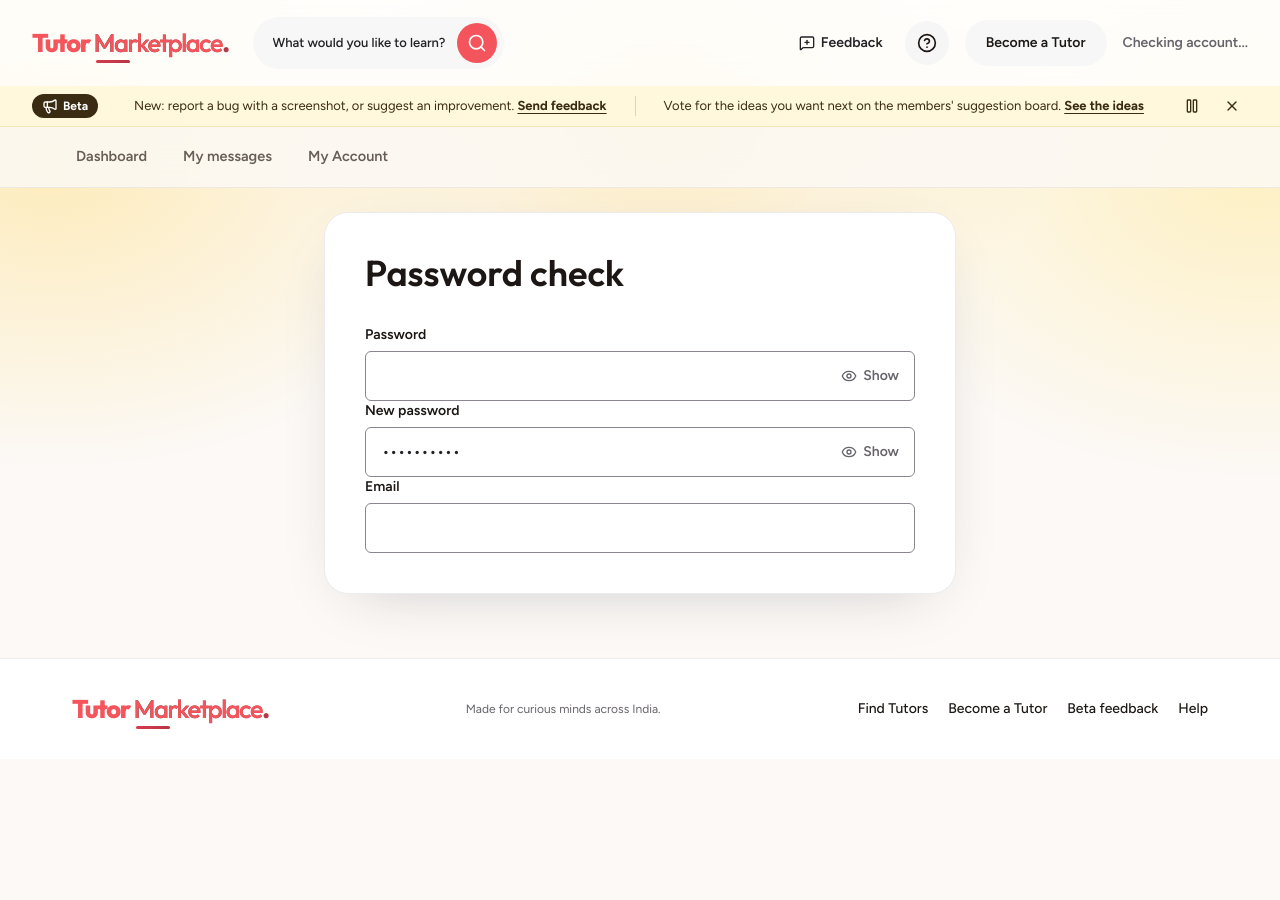
Test: masks passwords by default and toggles each field without losing typed input or submitting
This screenshot has width=1280, height=900.
Expected: the button with aria-label "Show password" is enabled, [829, 355, 911, 397]
In the password field labelled "Password": (640, 376) [365, 351, 915, 401], type "Eight123"
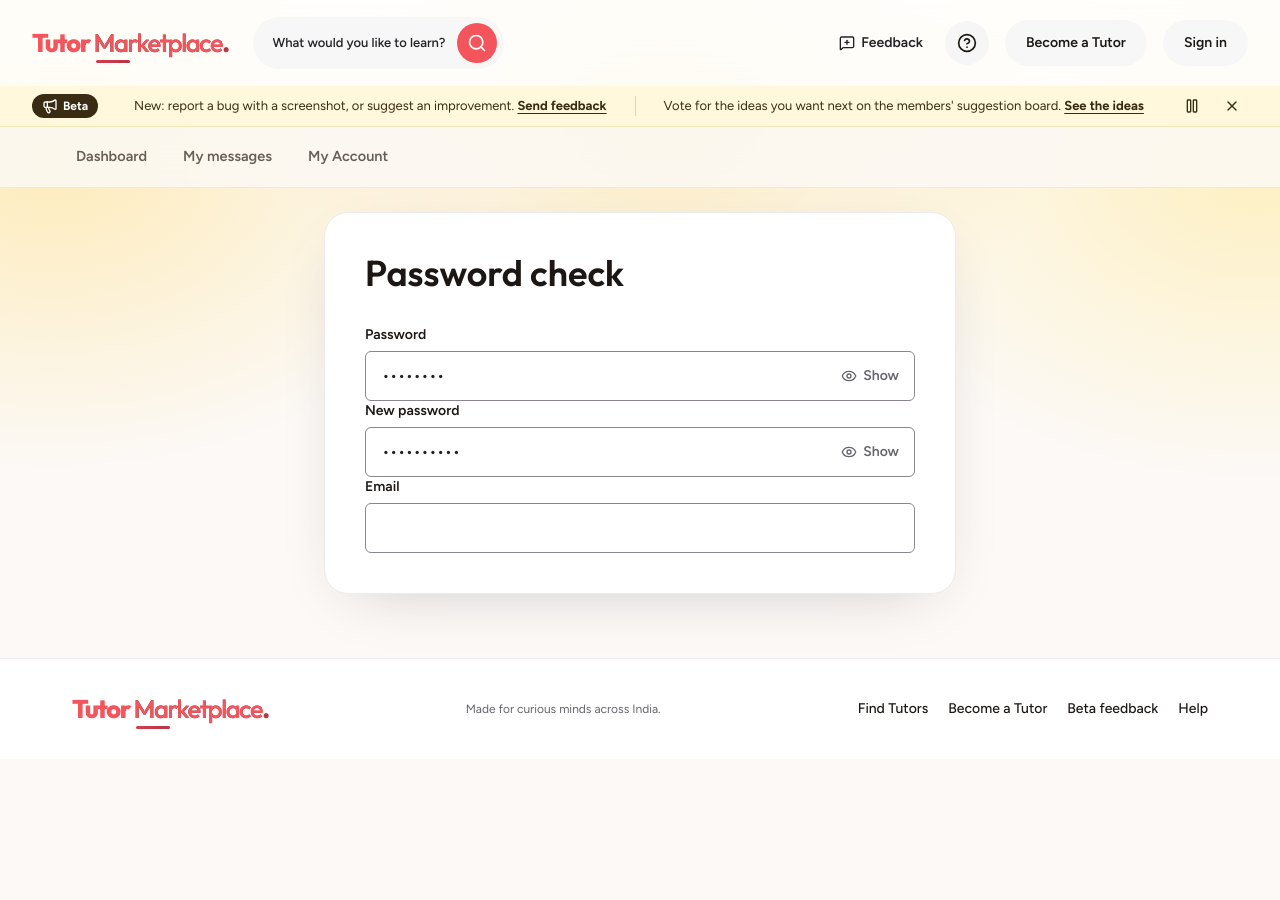
Click the button with aria-label "Show password": (870, 376) [829, 355, 911, 397]
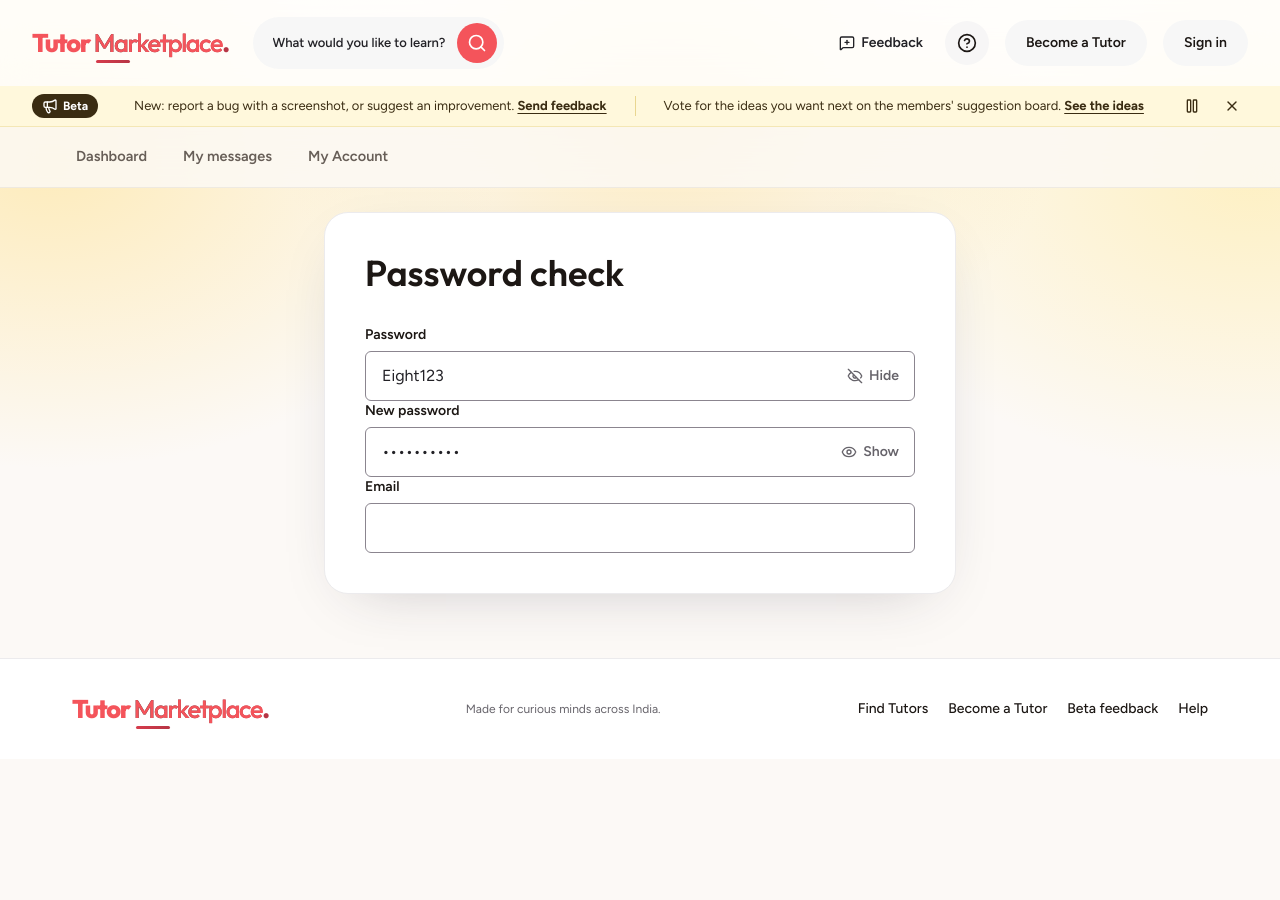
Now the field labelled "Password" shows its text, box [365, 351, 915, 401]
Click the button with aria-label "Hide password": (873, 376) [835, 355, 911, 397]
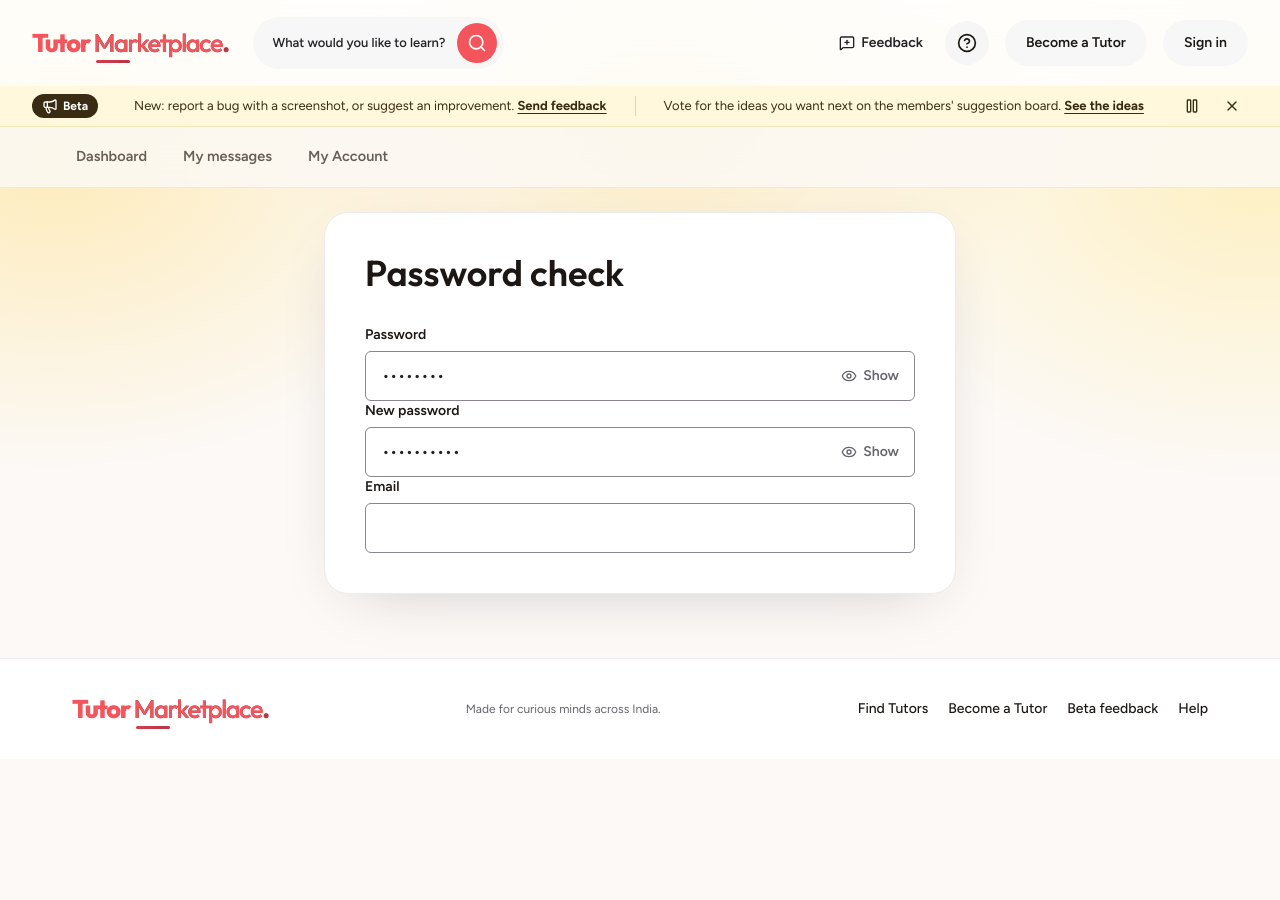
Now the password field labelled "Password" hides its text, box [365, 351, 915, 401]
